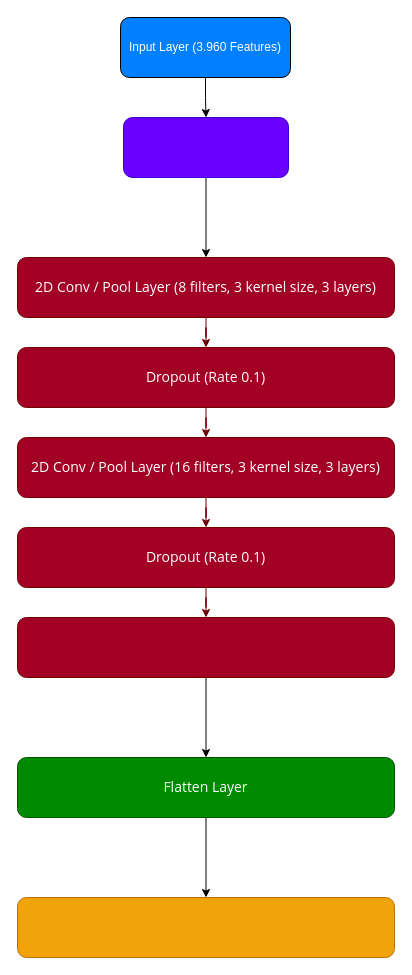
The diagram is 412 pixels wide and 975 high, and some of its shapes have lost their labels. The box of each missing label's shape, as (x1, y1, x2, y2) in pixels:
2D Conv / Pool Layer (32 filters, 3 kernel size, 1 layers): (16, 616, 394, 678)
Output Layer (2 Classes): (16, 896, 394, 958)
Reshape Layer (33 Columns): (122, 116, 288, 178)
